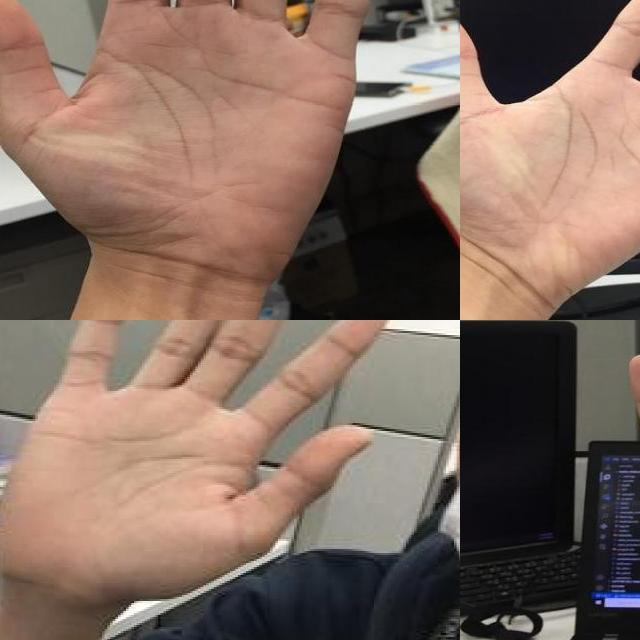no-gloves: (0, 320, 385, 599), (0, 0, 380, 280), (460, 0, 640, 294)
